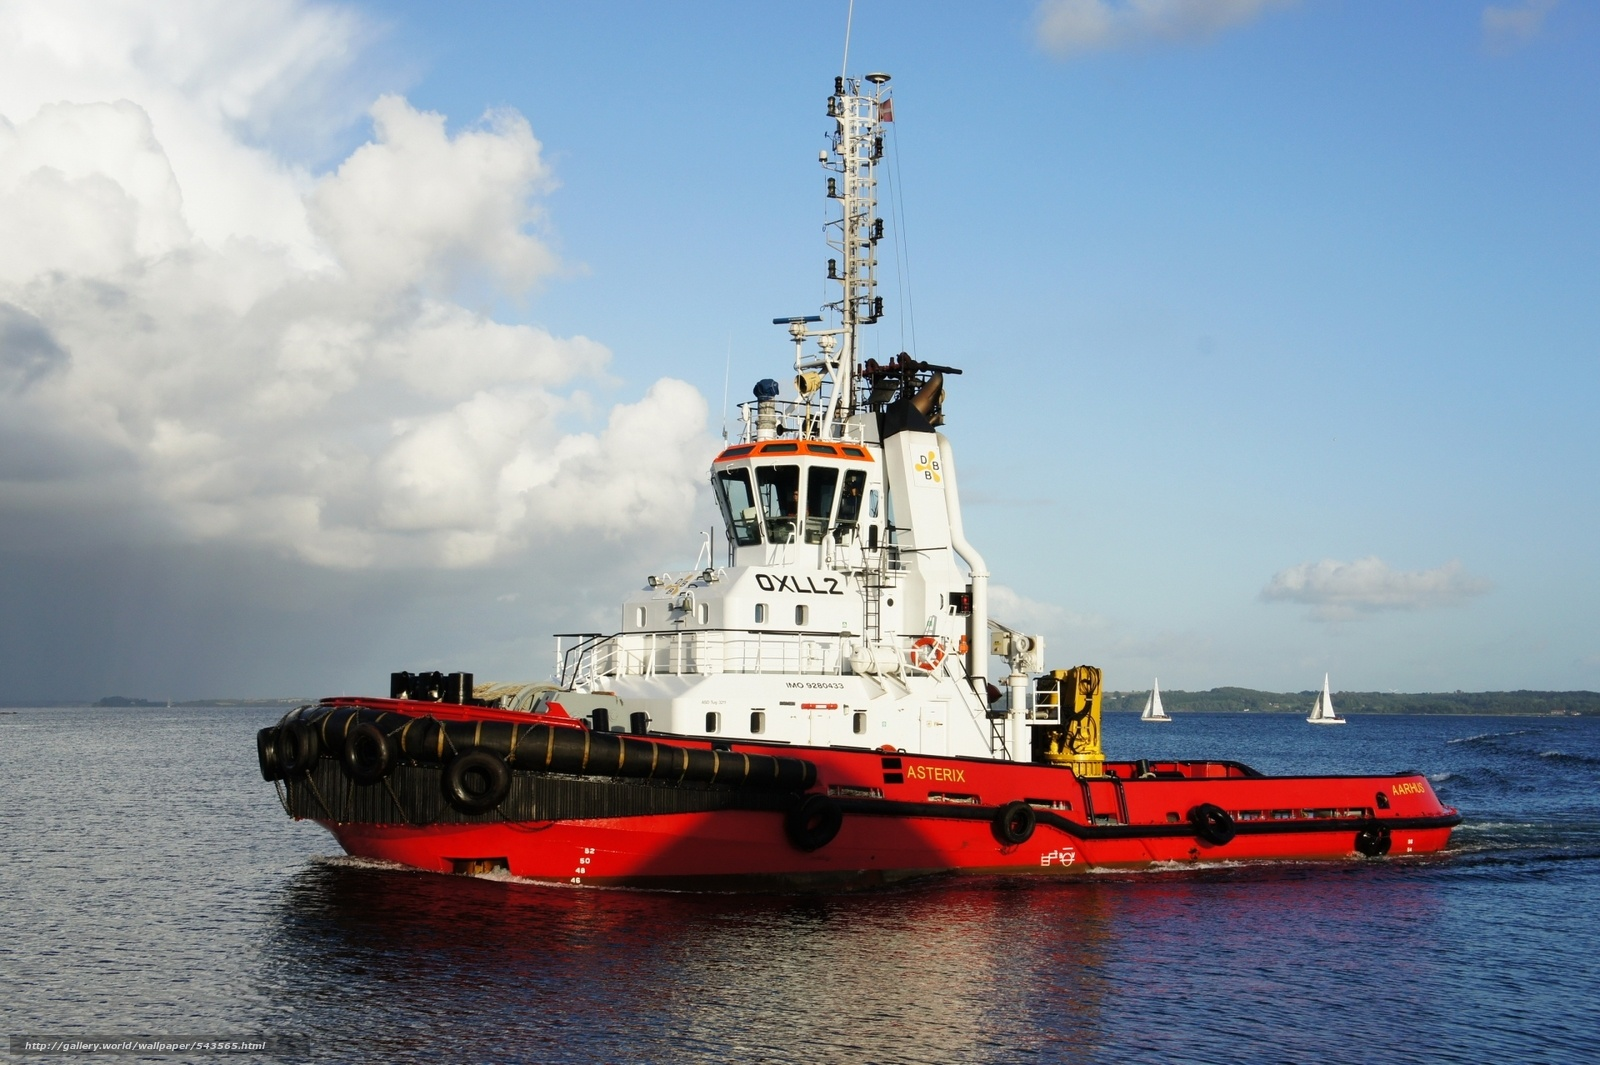fanchuan: (1300, 672, 1353, 735), (1136, 676, 1183, 727)
otherboat: (248, 56, 1467, 895)
